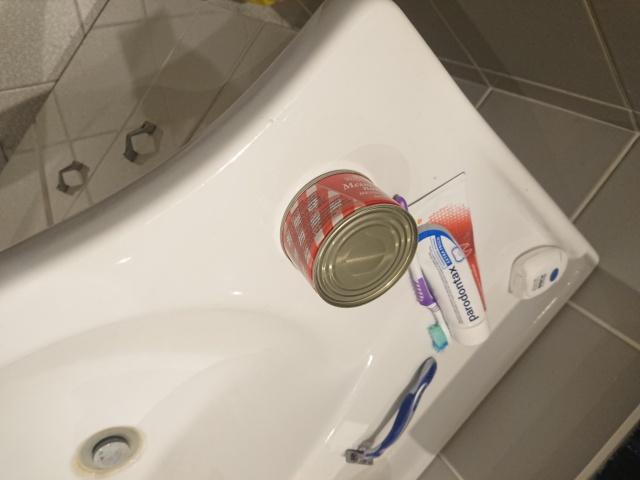Podravka Luncheon Meat 150g: (278, 166, 421, 310)
